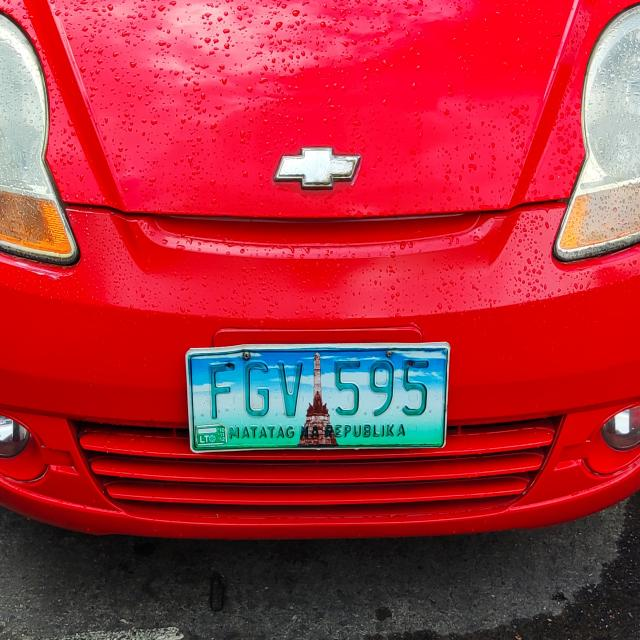plate: (179, 335, 459, 462)
